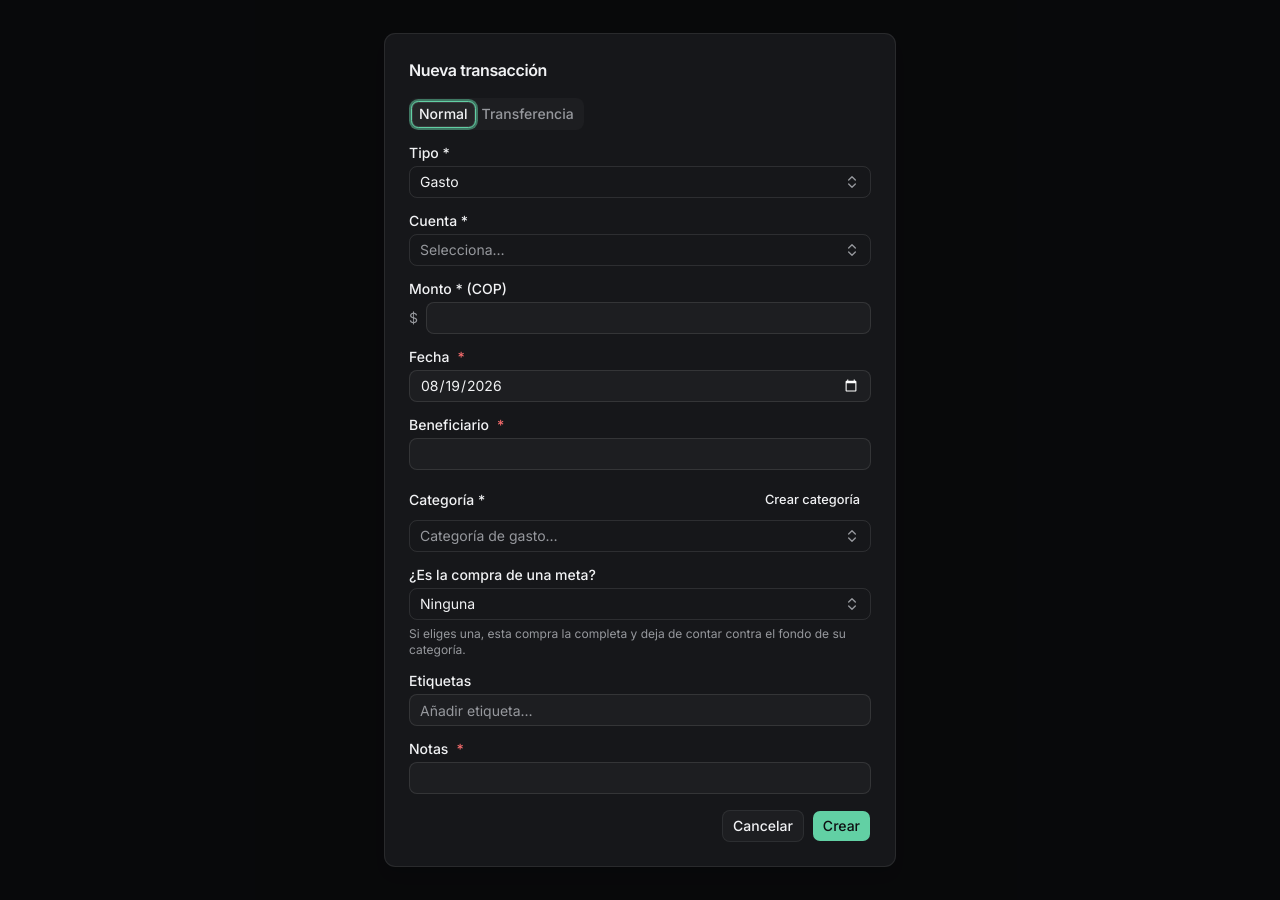
Test: TransactionCreateDialog tags › adds a typed tag as a chip
Type "comida" into the field labelled "Etiquetas". click: (640, 710)
box: 409,694 -> 871,726
Then press Enter
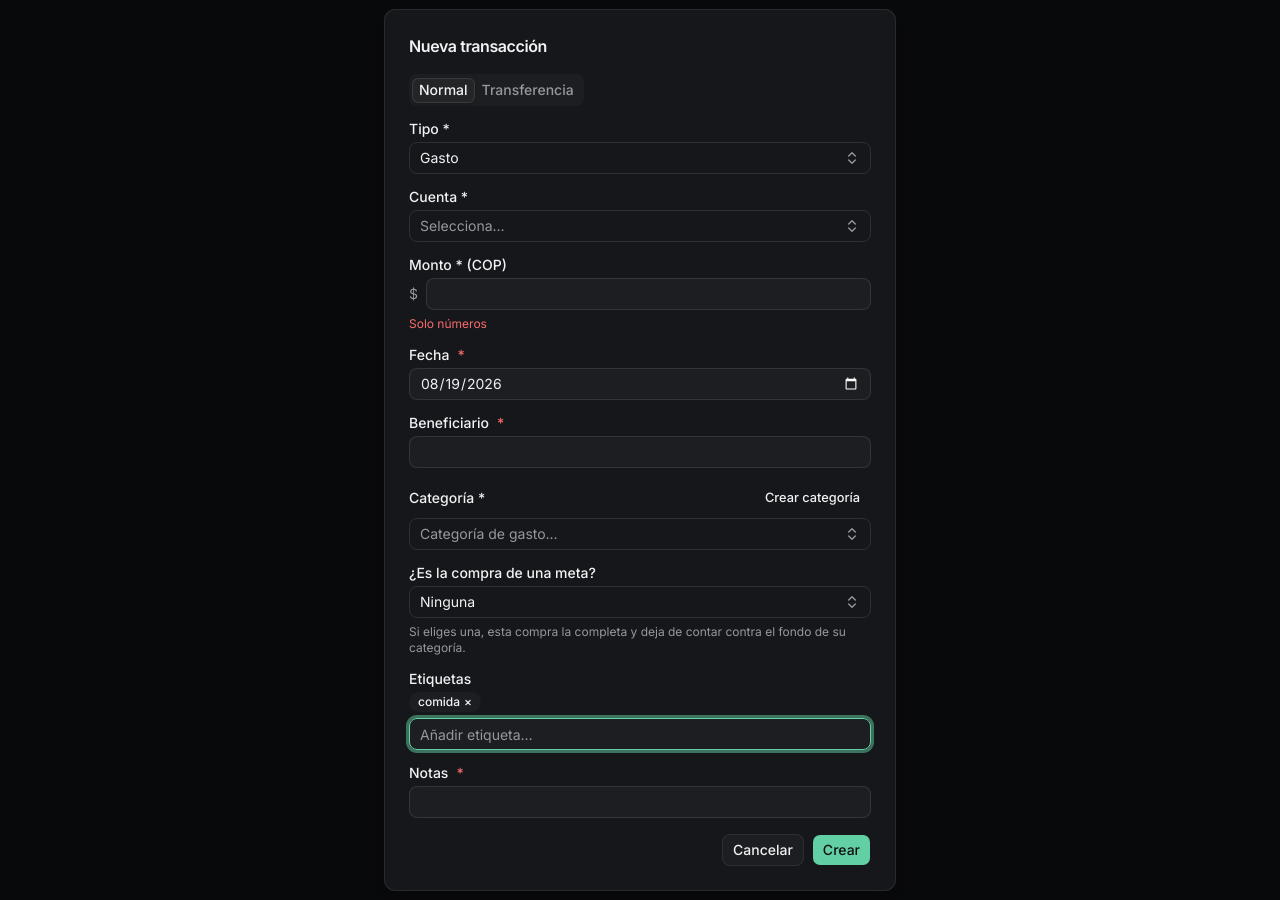
Check: the text "comida" is shown, box 418,694 -> 460,709
Check: the button named "Quitar etiqueta comida" is shown, box 464,694 -> 472,710
